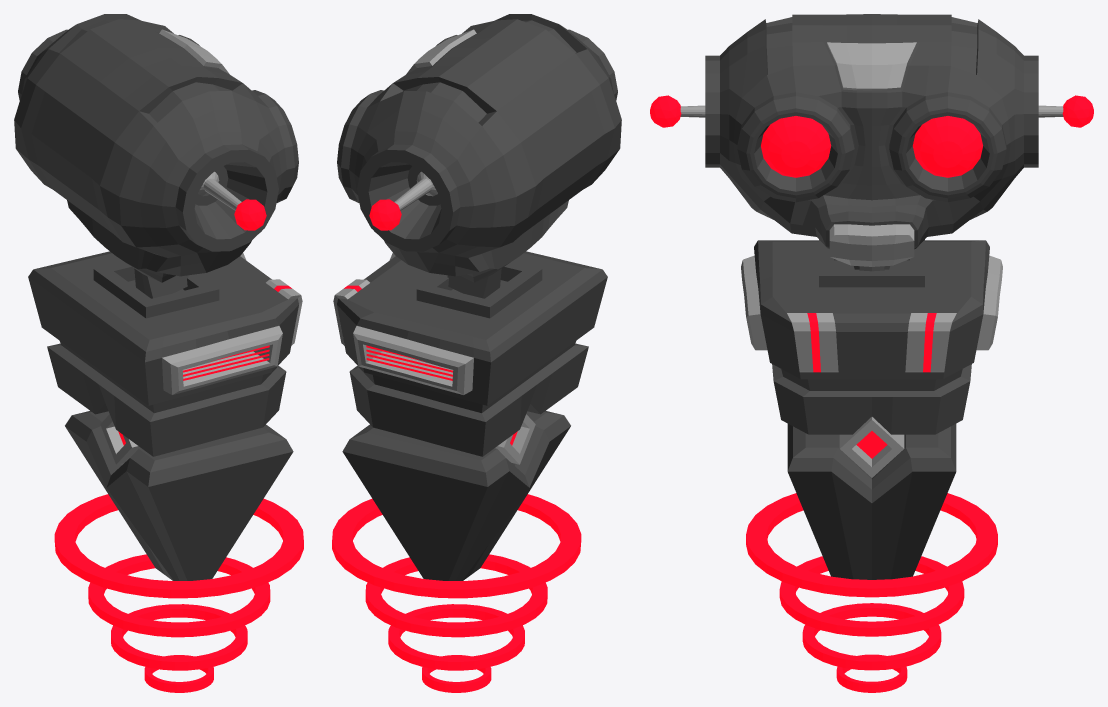
File: robot.glb
3 renders of one model, left to right at view 1: azimuth 30°, elevation 25°; view 2: azimuth 150°, elevation 25°; view 3: azimuth 270°, elevation 25°, orthographic.
Visible parts, largest first — view 1: robotbase, circle_big, circle_medium, circle_small, circle_small.001; view 2: robotbase, circle_big, circle_medium, circle_small, circle_small.001; view 3: robotbase, circle_big, circle_medium, circle_small, circle_small.001.
Part boxes in pixels (left/top/right/bottom): robotbase: left=14, top=14, right=302, bottom=580; circle_big: left=54, top=494, right=303, bottom=598; circle_medium: left=88, top=554, right=270, bottom=637; circle_small: left=111, top=604, right=247, bottom=670; circle_small.001: left=144, top=655, right=213, bottom=692; robotbase: left=333, top=14, right=621, bottom=580; circle_big: left=332, top=494, right=581, bottom=598; circle_medium: left=365, top=554, right=547, bottom=637; circle_small: left=388, top=604, right=524, bottom=670; circle_small.001: left=422, top=655, right=491, bottom=692; robotbase: left=650, top=14, right=1093, bottom=579; circle_big: left=746, top=493, right=997, bottom=597; circle_medium: left=779, top=556, right=964, bottom=636; circle_small: left=802, top=603, right=941, bottom=670; circle_small.001: left=836, top=654, right=907, bottom=692.
Size of the model in its own units: 0.306 by 0.8184 by 0.5125.
